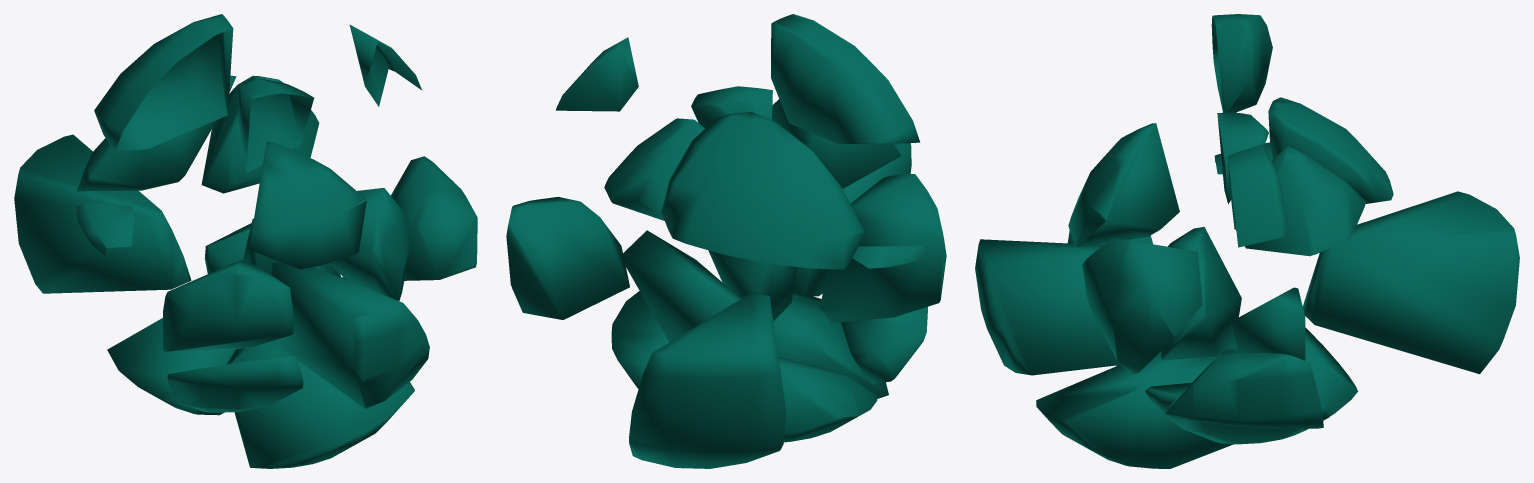
File: abstractball3.glb
3 views of the same model, side by side, from view 1: azimuth 30°, elevation 25°; view 2: azimuth 150°, elevation 25°; view 3: azimuth 270°, elevation 25° (orthographic). The views are drawn at different scales.
Parts seen in each view (by area): view 1: Voronoi_Fracture.3; view 2: Voronoi_Fracture.3; view 3: Voronoi_Fracture.3.
Boxes of the visible parts, x1=… form: Voronoi_Fracture.3: x1=14, y1=14, x2=477, y2=468; Voronoi_Fracture.3: x1=506, y1=14, x2=946, y2=468; Voronoi_Fracture.3: x1=975, y1=14, x2=1519, y2=468.
Size of what is drawn, in the model's own units: 4.62 by 4.92 by 5.77.
Materials: 1 (1 with a texture image).
